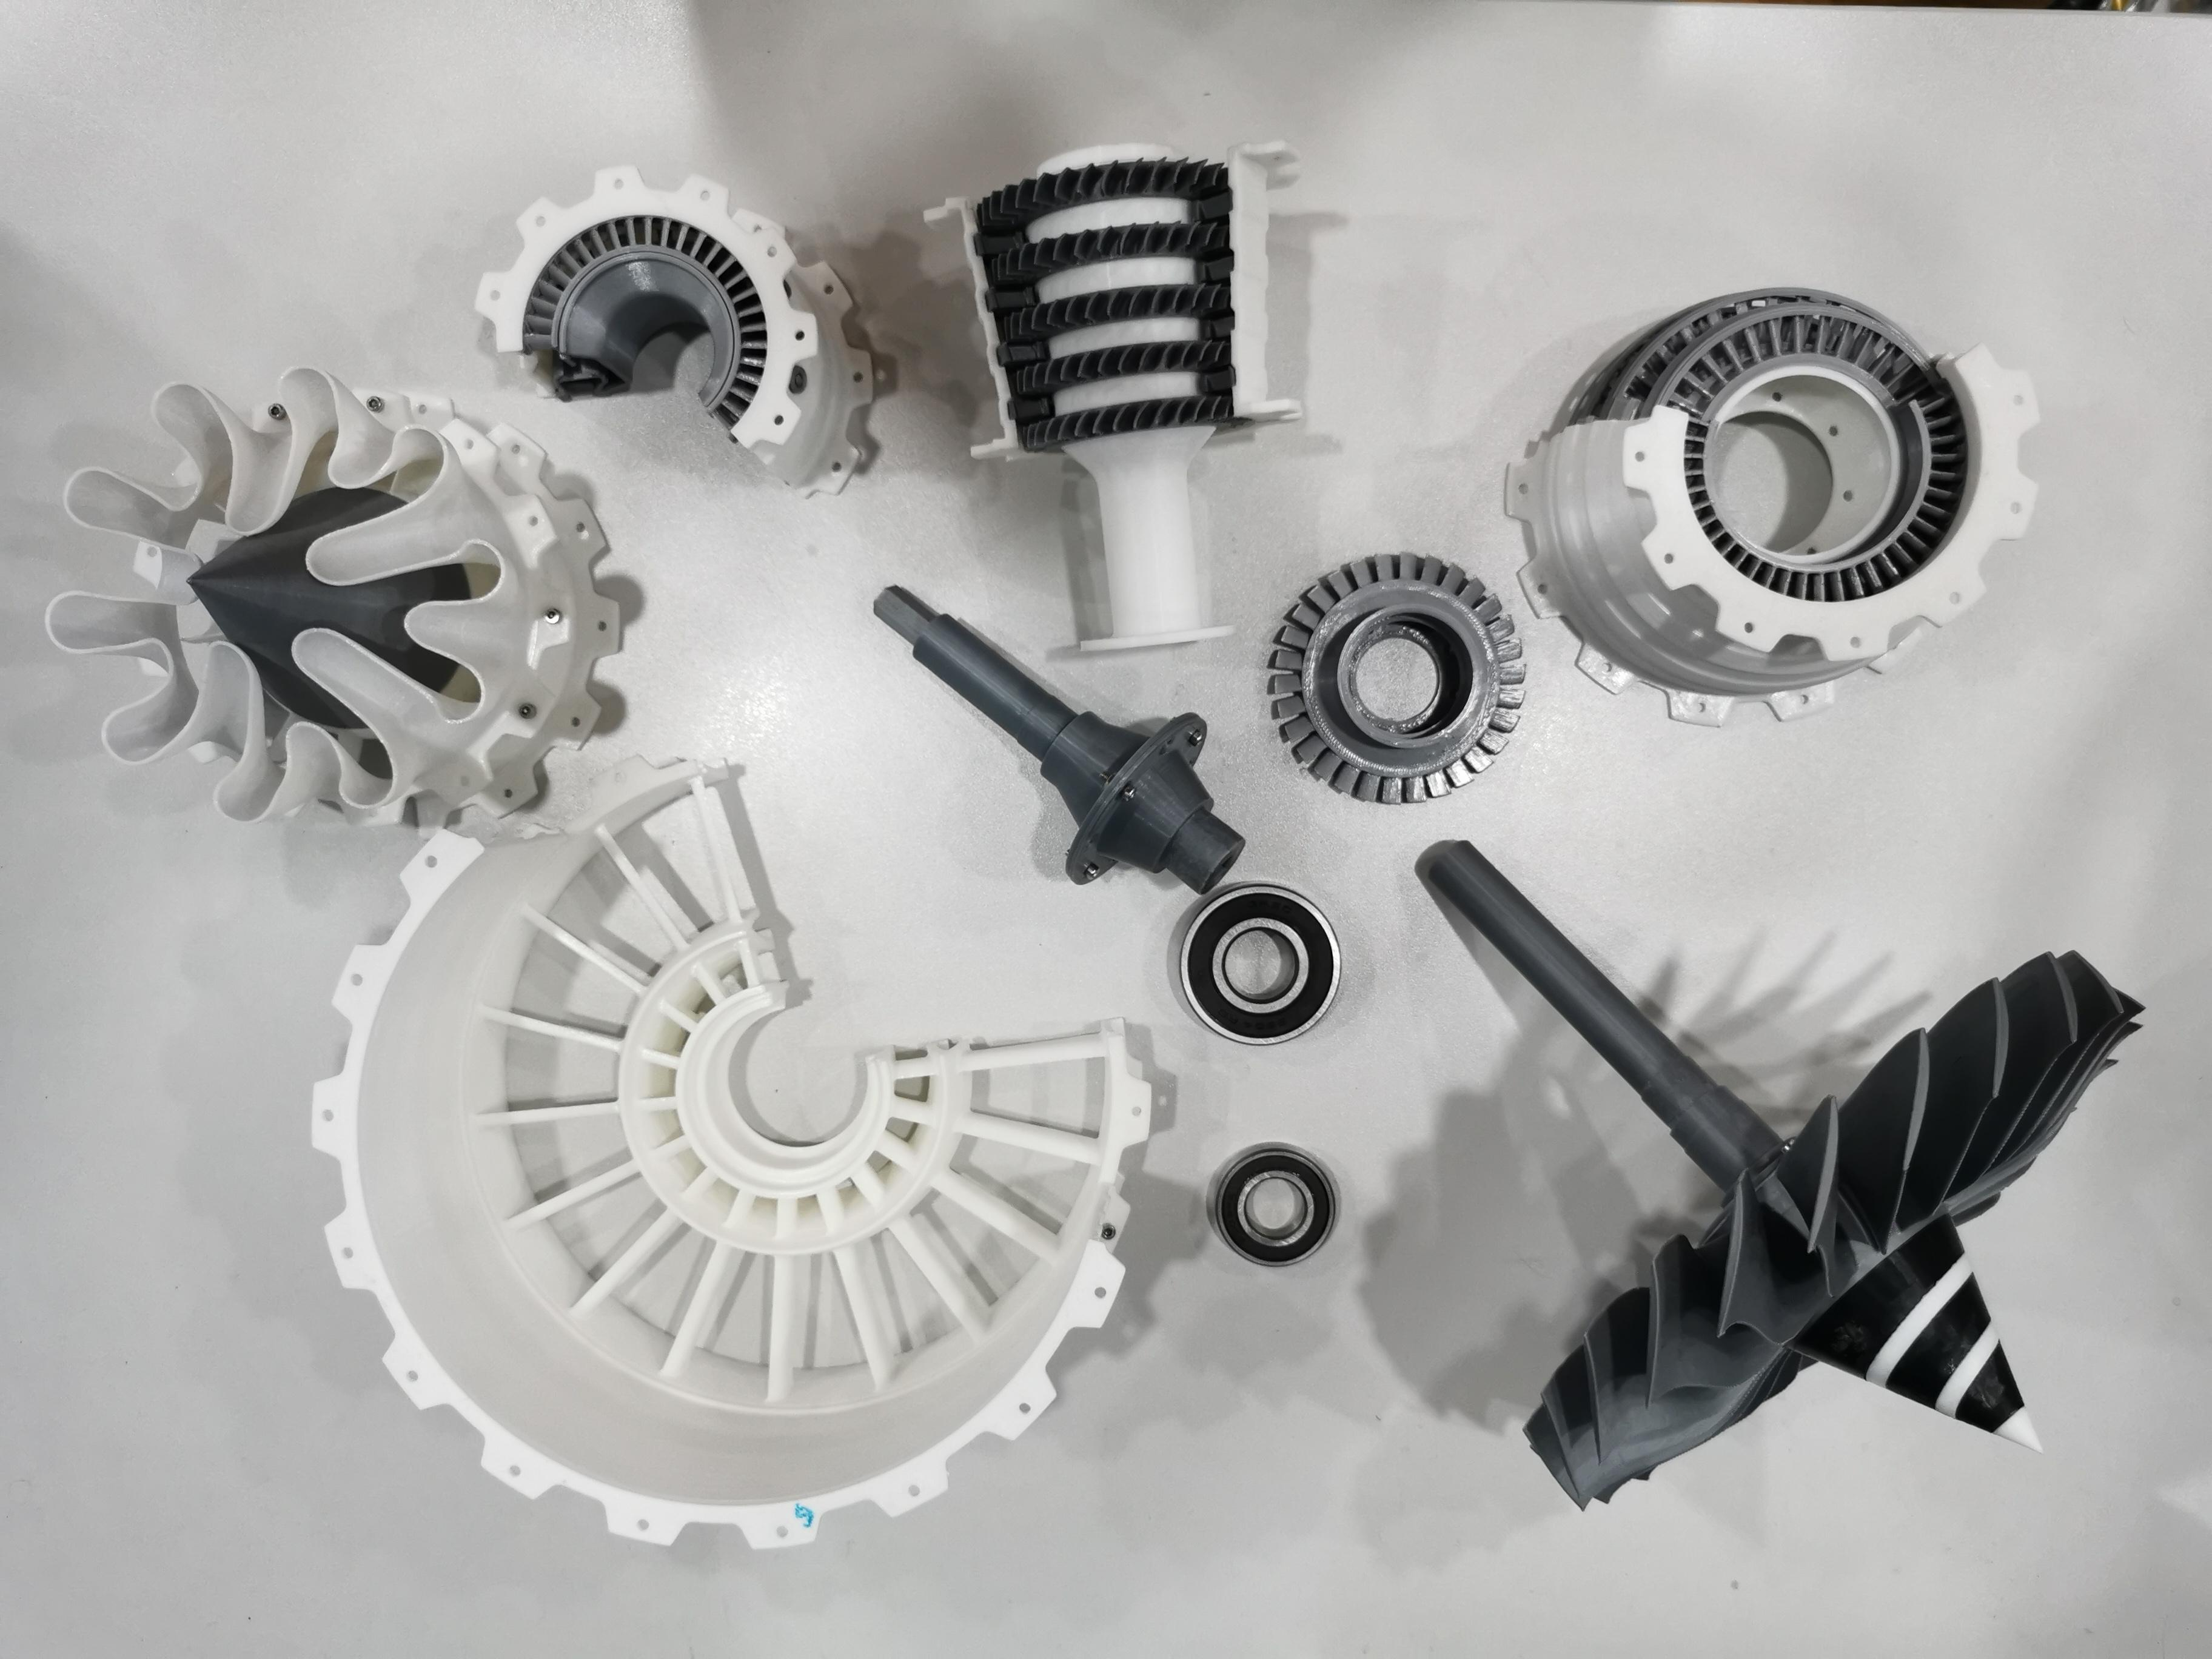Bearing-6003: (1200, 1129, 1352, 1283)
Bearing-6204: (1160, 873, 1352, 1053)
Combustion Section: (469, 152, 883, 509)
Fan Casing and Support: (298, 749, 1163, 1560)
Fan and Low Pressure Shaft: (1413, 835, 2153, 1520)
HPT Section: (1252, 549, 1536, 817)
High Pressure Spool: (920, 124, 1325, 659)
LPT Section: (1493, 267, 2052, 735)
Low Pressure Spool: (853, 570, 1245, 896)
Nozzle Section: (40, 350, 637, 847)
